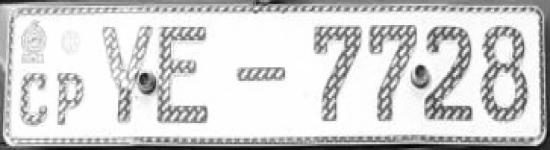-: (225, 55, 293, 90)
2: (422, 19, 477, 128)
7: (308, 18, 366, 128), (364, 19, 422, 126)
8: (475, 18, 534, 128)
C: (14, 69, 52, 131)
E: (155, 16, 215, 133)
P: (52, 68, 90, 132)
Y: (96, 15, 154, 128)
